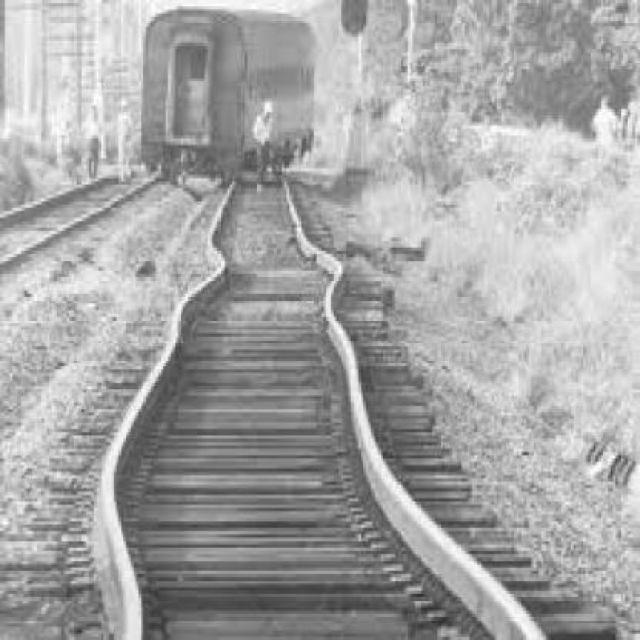danger: (135, 0, 331, 183)
rail: (55, 171, 593, 640), (0, 162, 168, 275)
